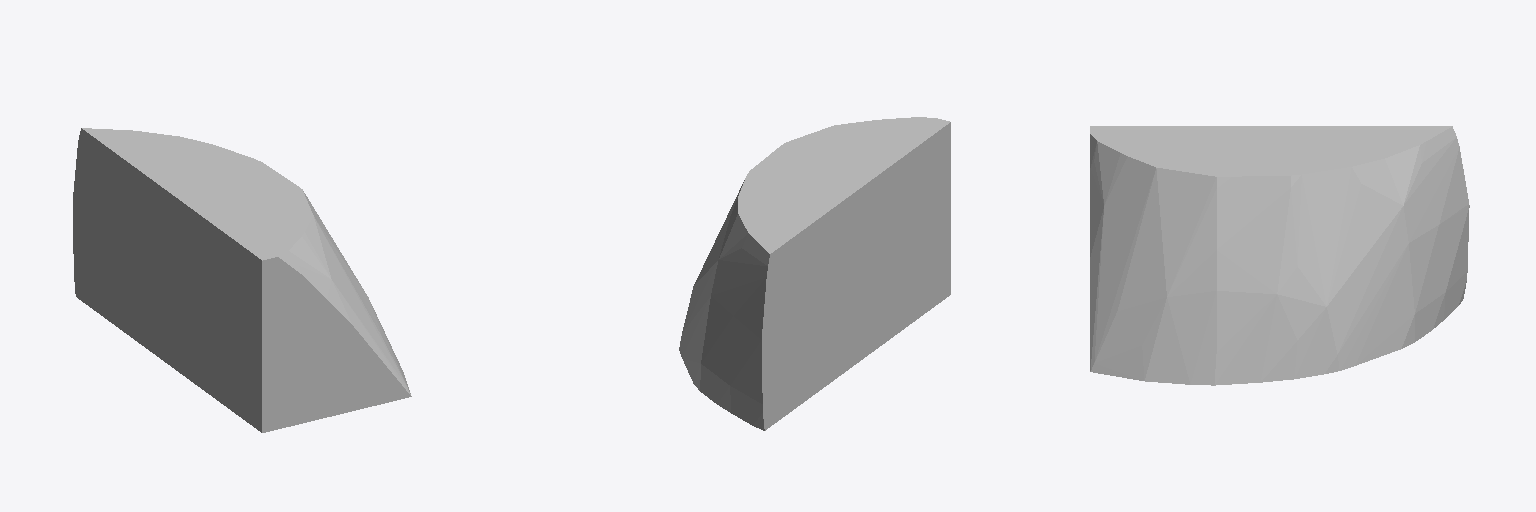
File: phantom-elastrat_collision_53.obj
The picture shows the model from 3 angles: view 1: azimuth 30°, elevation 25°; view 2: azimuth 150°, elevation 25°; view 3: azimuth 270°, elevation 25°; orthographic projection.
Size of the model in its own units: 0.0032 by 0.003 by 0.0059.